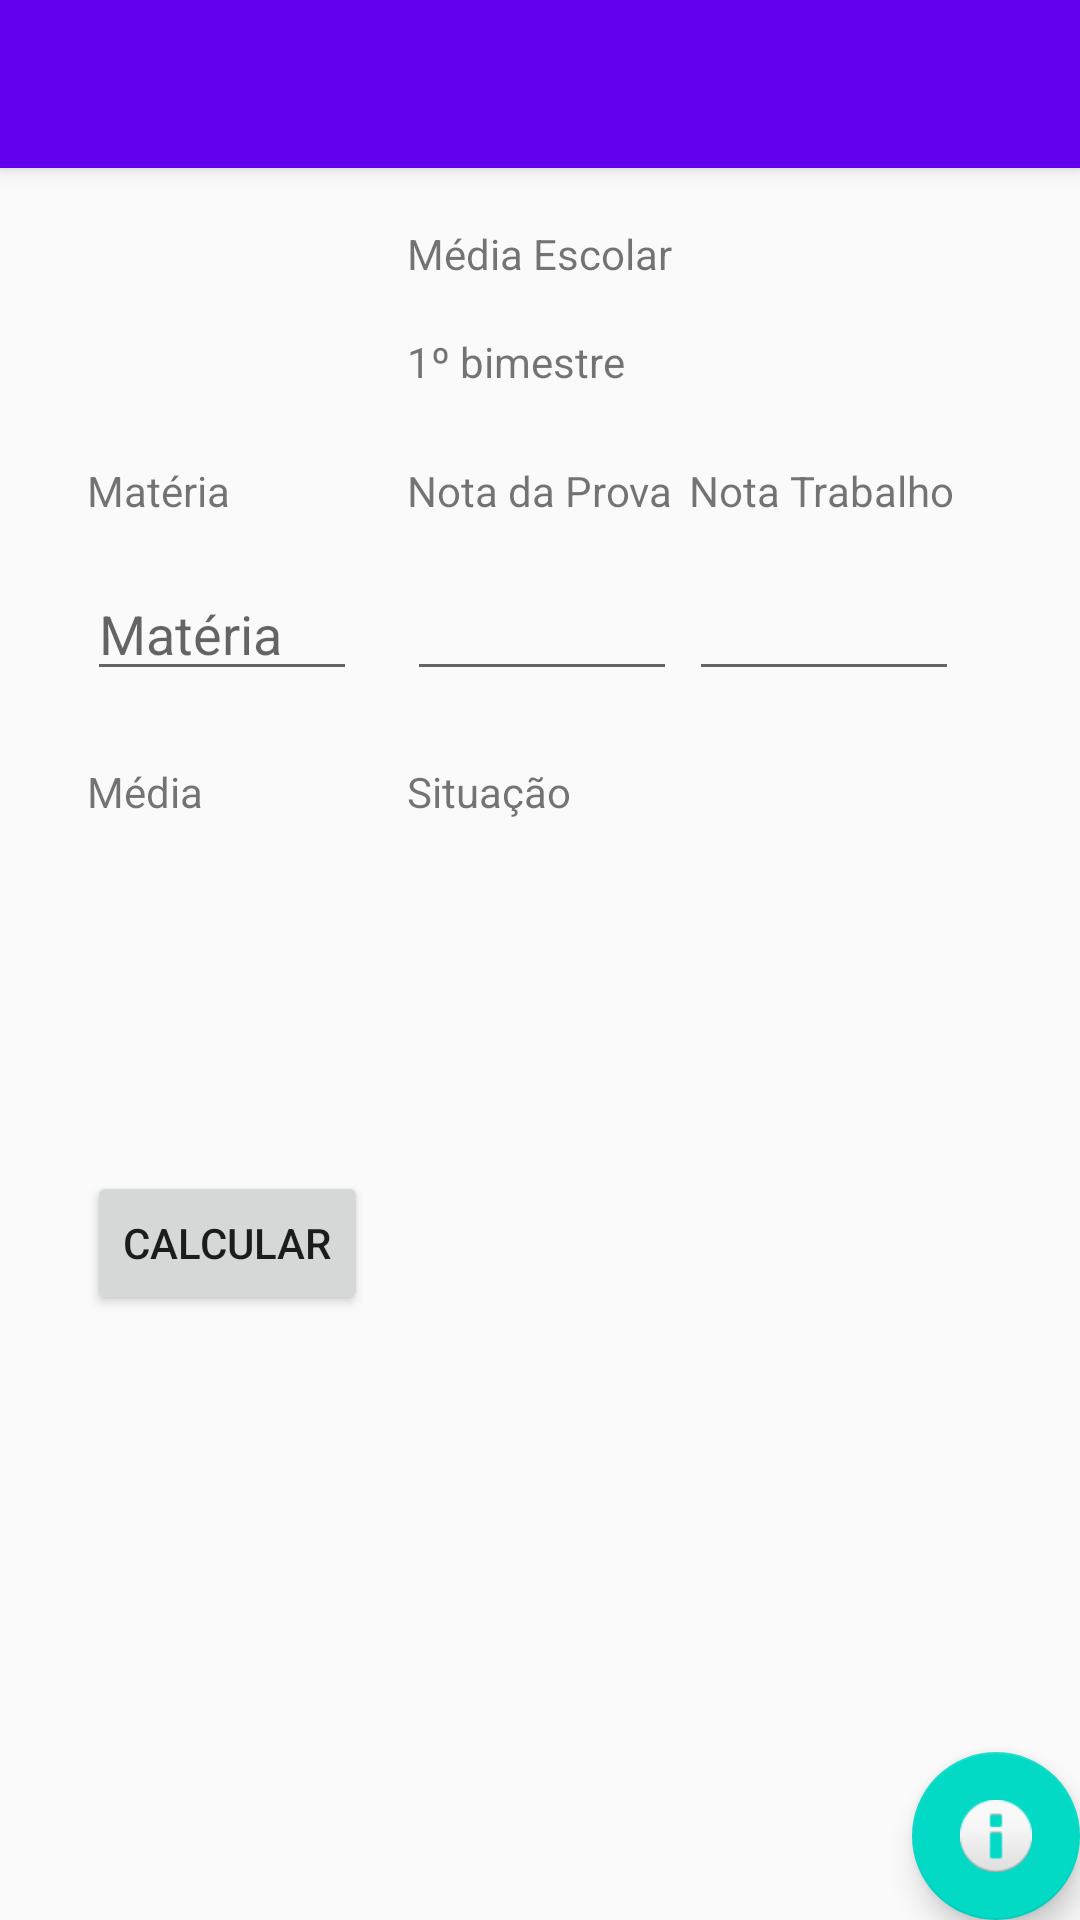

Point at icon controls on the screen. Image size 1080 × 1920, points as (x=x, y=y).
info: (x=996, y=1836)
